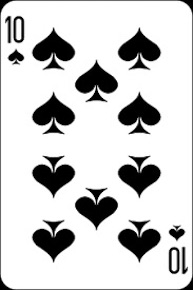TenOfSpades: (1, 3, 192, 290)
